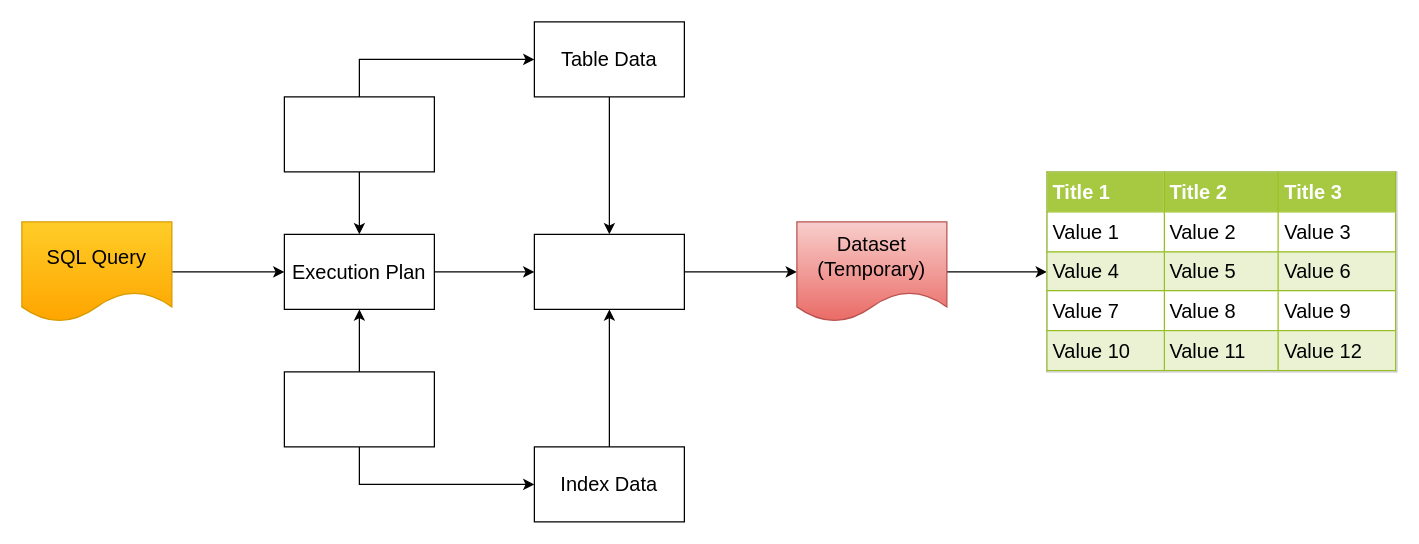
Some shapes in this 1419 by 544 pixel diagram are drawn without their labels. The shapes that lost their labels are listed below. From the top down, each one's box as (x1, y1, x2, y2) in pixels, then its label:
(283, 96, 434, 172): Table Definition
(533, 233, 684, 309): Collect Data
(283, 371, 434, 447): Index Definition
